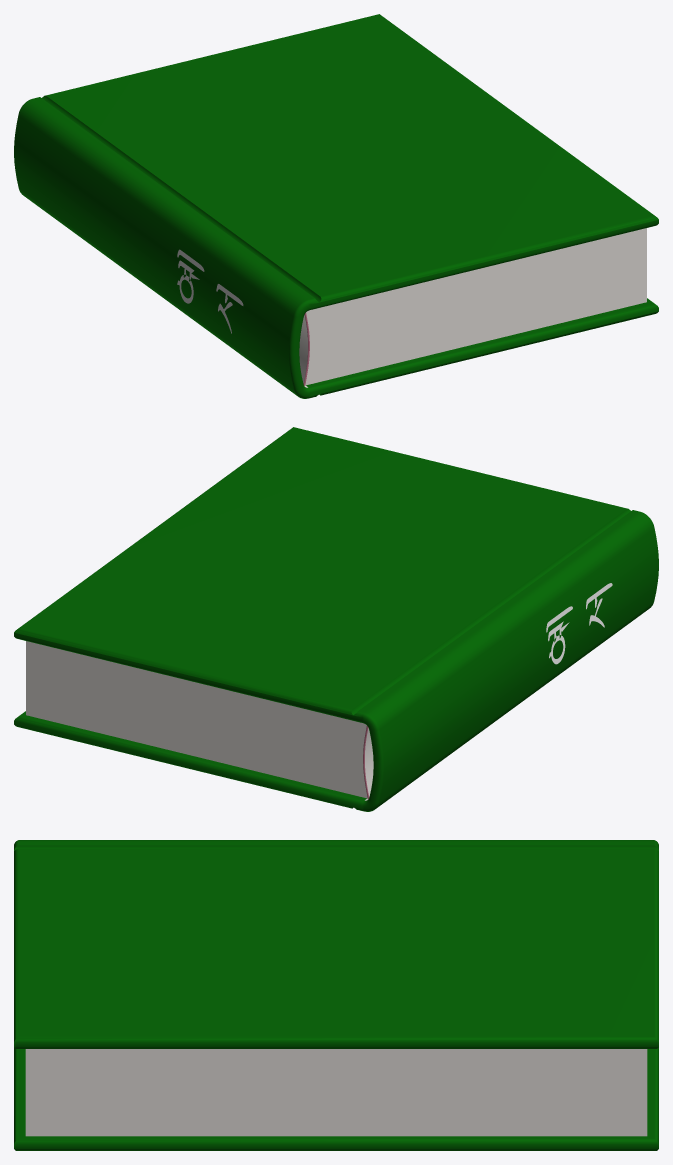
File: book2.glb
3 renders of one model, top to bottom at view 1: azimuth 30°, elevation 25°; view 2: azimuth 150°, elevation 25°; view 3: azimuth 270°, elevation 25°, orthographic. The views are drawn at different scales.
Visible parts, largest first — view 1: Geode, Text; view 2: Geode, Text; view 3: Geode.
Part boxes in pixels (<box>): Geode: <box>14,14,658,398</box>; Text: <box>177,249,243,333</box>; Geode: <box>14,427,658,811</box>; Text: <box>546,583,612,664</box>; Geode: <box>14,840,658,1150</box>.
Size of the model in its own units: 0.5055 by 0.1292 by 0.6604.
Materials: 3 (1 with a texture image).
